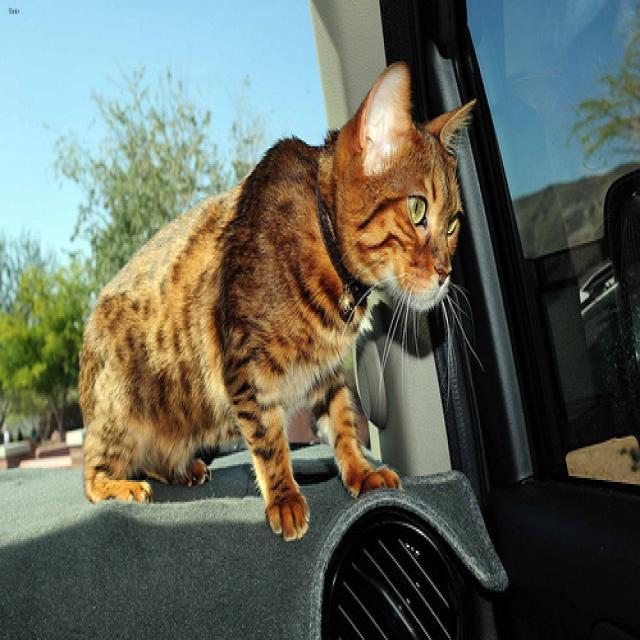Bengal: (332, 58, 480, 320)
